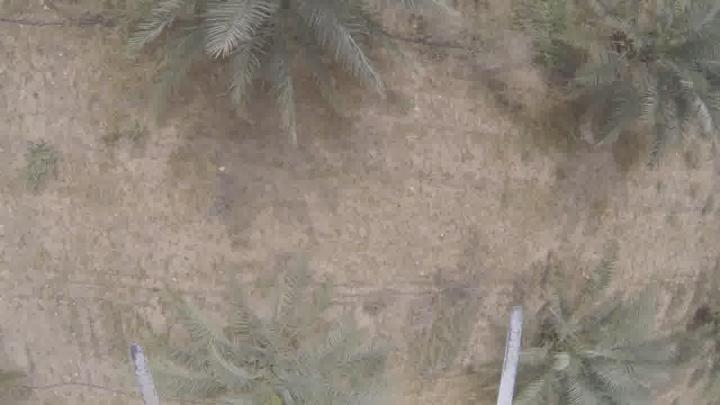Date-Palm-Crown: (132, 0, 366, 92), (564, 1, 720, 116), (509, 293, 646, 405), (166, 315, 336, 405)
